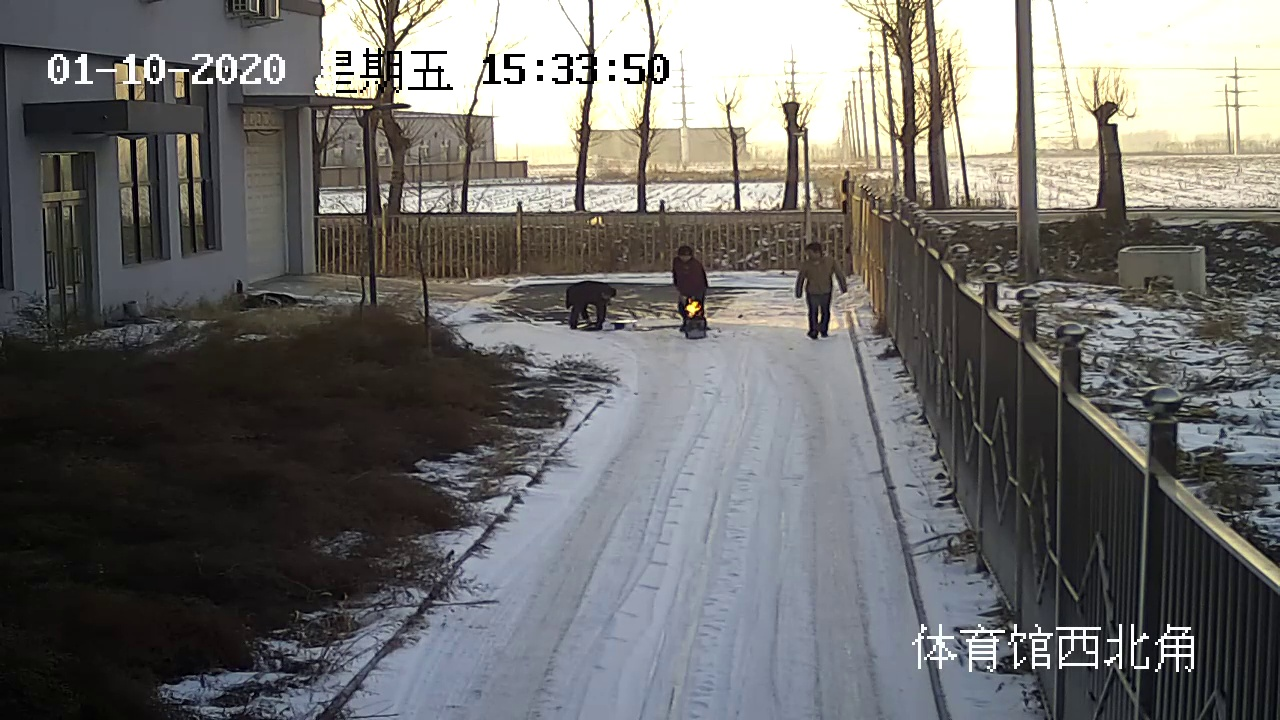fire: (679, 300, 701, 317)
